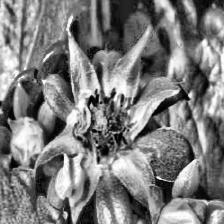Blossom Blight: (70, 88, 142, 166)
